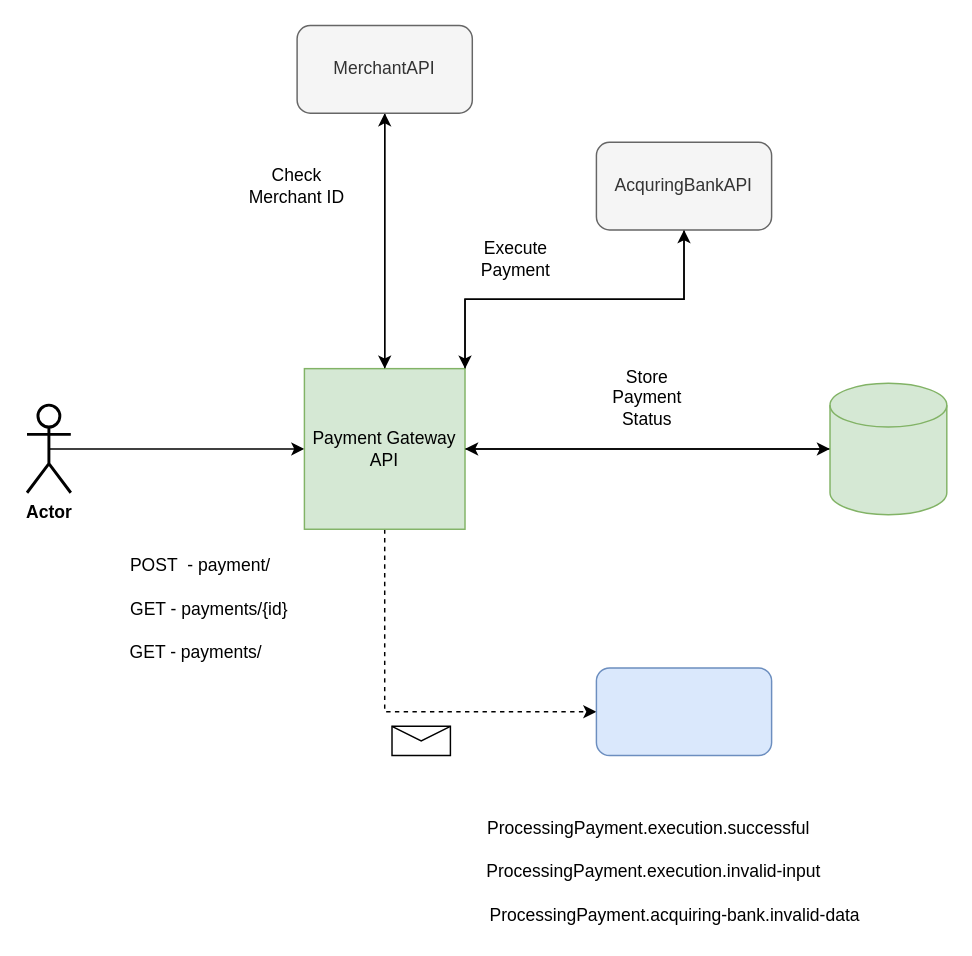
Some shapes in this 972 by 956 pixel diagram are drawn without their labels. The centre of each missing label's shape, as x and y in pixels:
Kafka: the point at 683,711
PaymentDB: the point at 888,448
